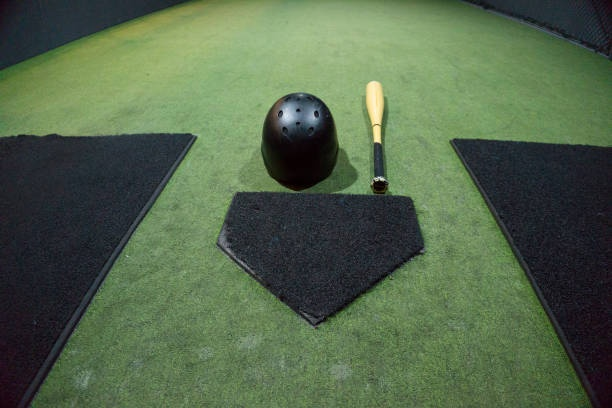bita: (367, 76, 400, 196)
